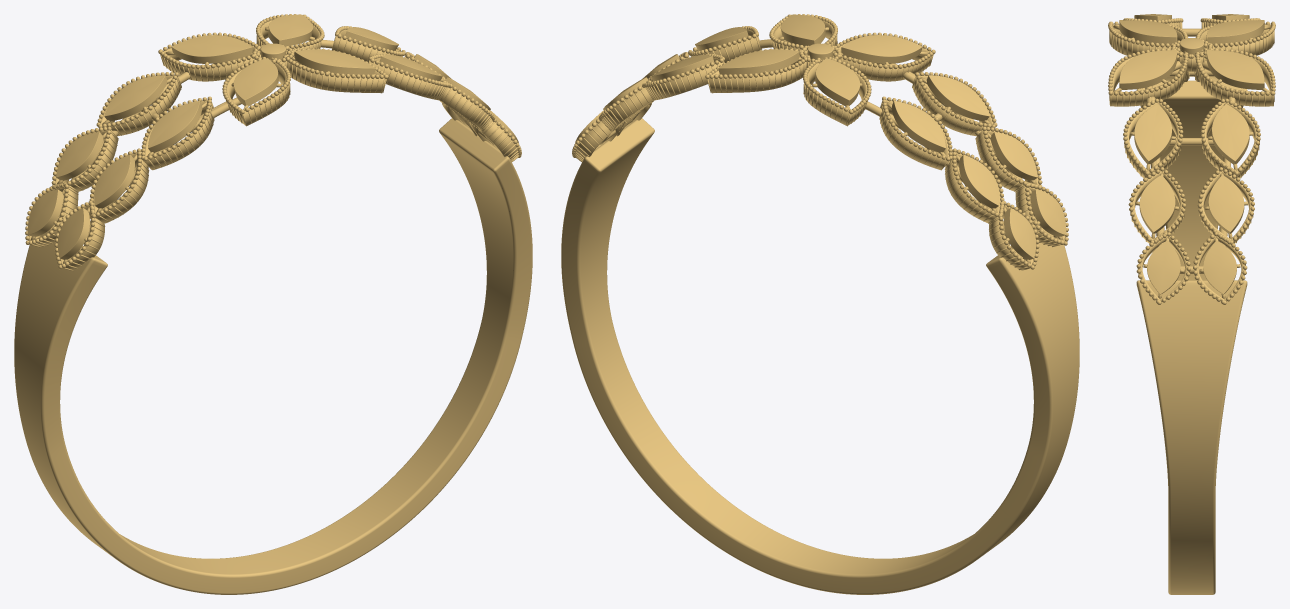
The picture shows the model from 3 angles, left to right: view 1: azimuth 30°, elevation 25°; view 2: azimuth 150°, elevation 25°; view 3: azimuth 270°, elevation 25°; orthographic projection.
Parts seen in each view (by area): view 1: Complete curved comfort shank | reverse inferred, Fine milgrain | individually modeled rounded beads, Central flower petal -1 1 | raised polished face, Tapered shoulder -1 leaf 0 1 | raised polished face, Tapered shoulder -1 leaf 0 -1 | raised polished face, Central flower petal -1 -1 | raised polished face, Central flower petal 1 -1 | raised polished face, Tapered shoulder -1 leaf 1 1 | raised polished face, Tapered shoulder -1 leaf 1 -1 | raised polished face, Central flower petal 1 -1 | closed openwork gallery, Central flower petal 1 1 | raised polished face, Tapered shoulder -1 leaf 2 -1 | raised polished face (+12 smaller); view 2: Complete curved comfort shank | reverse inferred, Fine milgrain | individually modeled rounded beads, Central flower petal -1 -1 | raised polished face, Tapered shoulder -1 leaf 0 -1 | raised polished face, Tapered shoulder -1 leaf 0 1 | raised polished face, Central flower petal -1 1 | raised polished face, Central flower petal 1 1 | raised polished face, Central flower petal 1 1 | closed openwork gallery, Tapered shoulder -1 leaf 1 -1 | raised polished face, Tapered shoulder -1 leaf 1 1 | raised polished face, Central flower petal 1 -1 | raised polished face, Tapered shoulder -1 leaf 2 1 | raised polished face (+12 smaller); view 3: Complete curved comfort shank | reverse inferred, Fine milgrain | individually modeled rounded beads, Central flower petal 1 -1 | raised polished face, Central flower petal 1 1 | raised polished face, Tapered shoulder 1 leaf 0 -1 | raised polished face, Tapered shoulder 1 leaf 0 1 | raised polished face, Tapered shoulder 1 leaf 1 -1 | raised polished face, Tapered shoulder 1 leaf 1 1 | raised polished face, Tapered shoulder 1 leaf 2 -1 | raised polished face, Tapered shoulder 1 leaf 2 1 | raised polished face, Central flower petal -1 -1 | raised polished face, Central flower petal -1 1 | raised polished face (+15 smaller).
Boxes of the visible parts, <box> form: Complete curved comfort shank | reverse inferred: <box>14,118,532,594</box>; Fine milgrain | individually modeled rounded beads: <box>25,14,521,269</box>; Central flower petal -1 1 | raised polished face: <box>171,35,252,63</box>; Tapered shoulder -1 leaf 0 1 | raised polished face: <box>104,75,167,121</box>; Tapered shoulder -1 leaf 0 -1 | raised polished face: <box>148,100,202,152</box>; Central flower petal -1 -1 | raised polished face: <box>233,58,278,105</box>; Central flower petal 1 -1 | raised polished face: <box>294,49,375,75</box>; Tapered shoulder -1 leaf 1 1 | raised polished face: <box>56,132,103,180</box>; Tapered shoulder -1 leaf 1 -1 | raised polished face: <box>94,154,134,208</box>; Central flower petal 1 -1 | closed openwork gallery: <box>286,54,385,93</box>; Central flower petal 1 1 | raised polished face: <box>268,14,313,46</box>; Tapered shoulder -1 leaf 2 -1 | raised polished face: <box>57,208,89,259</box>; Complete curved comfort shank | reverse inferred: <box>561,118,1079,594</box>; Fine milgrain | individually modeled rounded beads: <box>572,14,1068,269</box>; Central flower petal -1 -1 | raised polished face: <box>841,35,922,63</box>; Tapered shoulder -1 leaf 0 -1 | raised polished face: <box>926,75,989,121</box>; Tapered shoulder -1 leaf 0 1 | raised polished face: <box>891,100,945,152</box>; Central flower petal -1 1 | raised polished face: <box>815,58,860,105</box>; Central flower petal 1 1 | raised polished face: <box>718,49,799,75</box>; Central flower petal 1 1 | closed openwork gallery: <box>708,54,807,93</box>; Tapered shoulder -1 leaf 1 -1 | raised polished face: <box>990,132,1037,180</box>; Tapered shoulder -1 leaf 1 1 | raised polished face: <box>959,154,999,208</box>; Central flower petal 1 -1 | raised polished face: <box>780,14,825,46</box>; Tapered shoulder -1 leaf 2 1 | raised polished face: <box>1004,208,1036,259</box>; Complete curved comfort shank | reverse inferred: <box>1136,80,1247,594</box>; Fine milgrain | individually modeled rounded beads: <box>1108,18,1275,304</box>; Central flower petal 1 -1 | raised polished face: <box>1119,50,1177,89</box>; Central flower petal 1 1 | raised polished face: <box>1206,50,1264,89</box>; Tapered shoulder 1 leaf 0 -1 | raised polished face: <box>1134,104,1171,164</box>; Tapered shoulder 1 leaf 0 1 | raised polished face: <box>1212,104,1249,164</box>; Tapered shoulder 1 leaf 1 -1 | raised polished face: <box>1139,175,1175,233</box>; Tapered shoulder 1 leaf 1 1 | raised polished face: <box>1208,175,1244,233</box>; Tapered shoulder 1 leaf 2 -1 | raised polished face: <box>1147,240,1180,294</box>; Tapered shoulder 1 leaf 2 1 | raised polished face: <box>1203,240,1236,294</box>; Central flower petal -1 -1 | raised polished face: <box>1119,20,1177,44</box>; Central flower petal -1 1 | raised polished face: <box>1206,20,1264,44</box>.
Bounding box in the file's own units: 0.0195 × 0.0203 × 0.00584.
